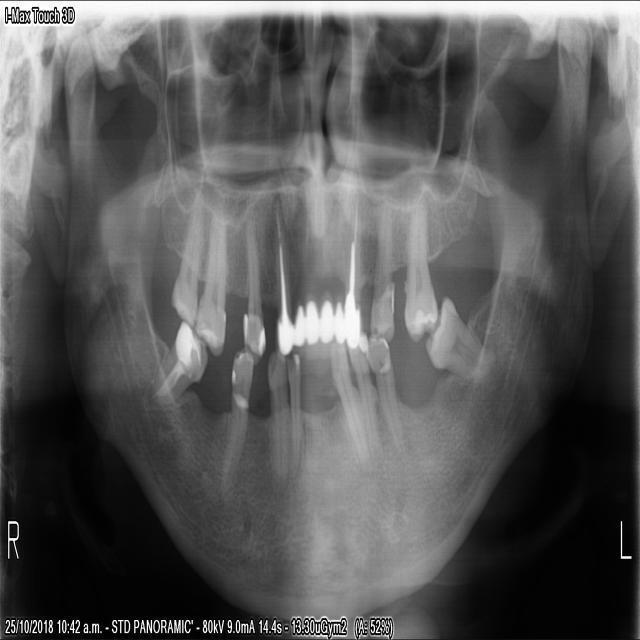LMD: (422, 287, 495, 389)
LMU: (400, 194, 439, 345)
LPMD: (362, 329, 413, 473)
LPMU: (366, 192, 395, 345)
RMD: (144, 317, 210, 407)
RMU: (167, 177, 206, 328), (192, 194, 227, 360)
RPMD: (217, 346, 255, 506), (264, 340, 291, 495)
RPMU: (239, 204, 266, 369), (270, 193, 293, 361)
